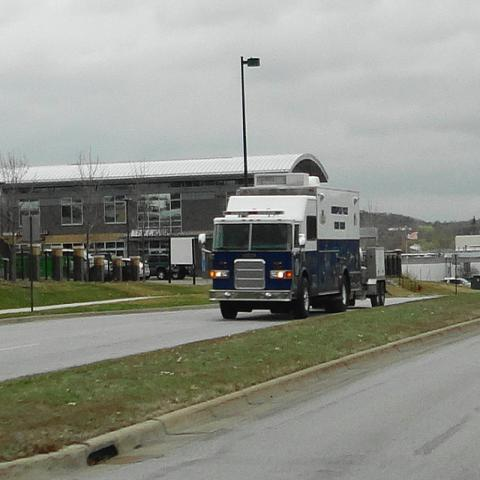car: (61, 249, 113, 279), (146, 254, 170, 280), (439, 277, 471, 288), (139, 262, 150, 282)
truck: (198, 170, 387, 322)
